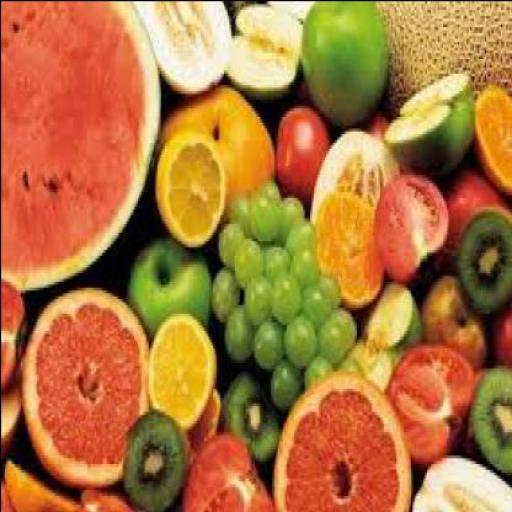biodegradable: (1, 0, 510, 510), (2, 1, 156, 287), (22, 281, 147, 492), (267, 373, 410, 509), (373, 2, 511, 92), (158, 87, 275, 183), (380, 341, 469, 466), (300, 2, 383, 120), (381, 69, 472, 173), (124, 232, 212, 335), (135, 0, 228, 96), (149, 131, 221, 246), (142, 304, 212, 422), (372, 170, 448, 278), (215, 362, 282, 477), (310, 191, 380, 295), (229, 2, 300, 98), (181, 434, 269, 509), (120, 408, 185, 509), (442, 171, 511, 257), (408, 451, 510, 509), (313, 125, 397, 194), (420, 280, 487, 362), (275, 98, 326, 202), (460, 208, 510, 306), (472, 78, 510, 203), (471, 359, 510, 474), (0, 455, 81, 509), (360, 278, 424, 344), (336, 336, 395, 384), (214, 304, 259, 362), (1, 293, 26, 385), (314, 307, 354, 359), (483, 292, 510, 368), (204, 258, 240, 312), (268, 350, 303, 404), (230, 234, 264, 284), (210, 261, 240, 315), (273, 272, 304, 324), (250, 318, 282, 368), (188, 388, 218, 437), (244, 272, 272, 321), (258, 237, 288, 281), (280, 318, 314, 356), (0, 373, 18, 442), (248, 190, 273, 238), (316, 260, 340, 310), (303, 275, 323, 324), (232, 188, 254, 232), (214, 220, 240, 254), (279, 196, 298, 241), (304, 356, 330, 388), (290, 243, 312, 280), (288, 216, 313, 248), (365, 113, 382, 136), (256, 180, 272, 197), (280, 194, 295, 202)
